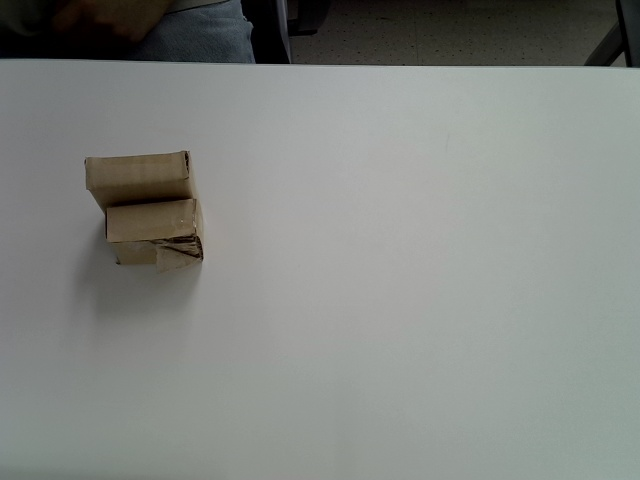defect: (104, 199, 205, 273)
normal: (84, 150, 197, 213)
